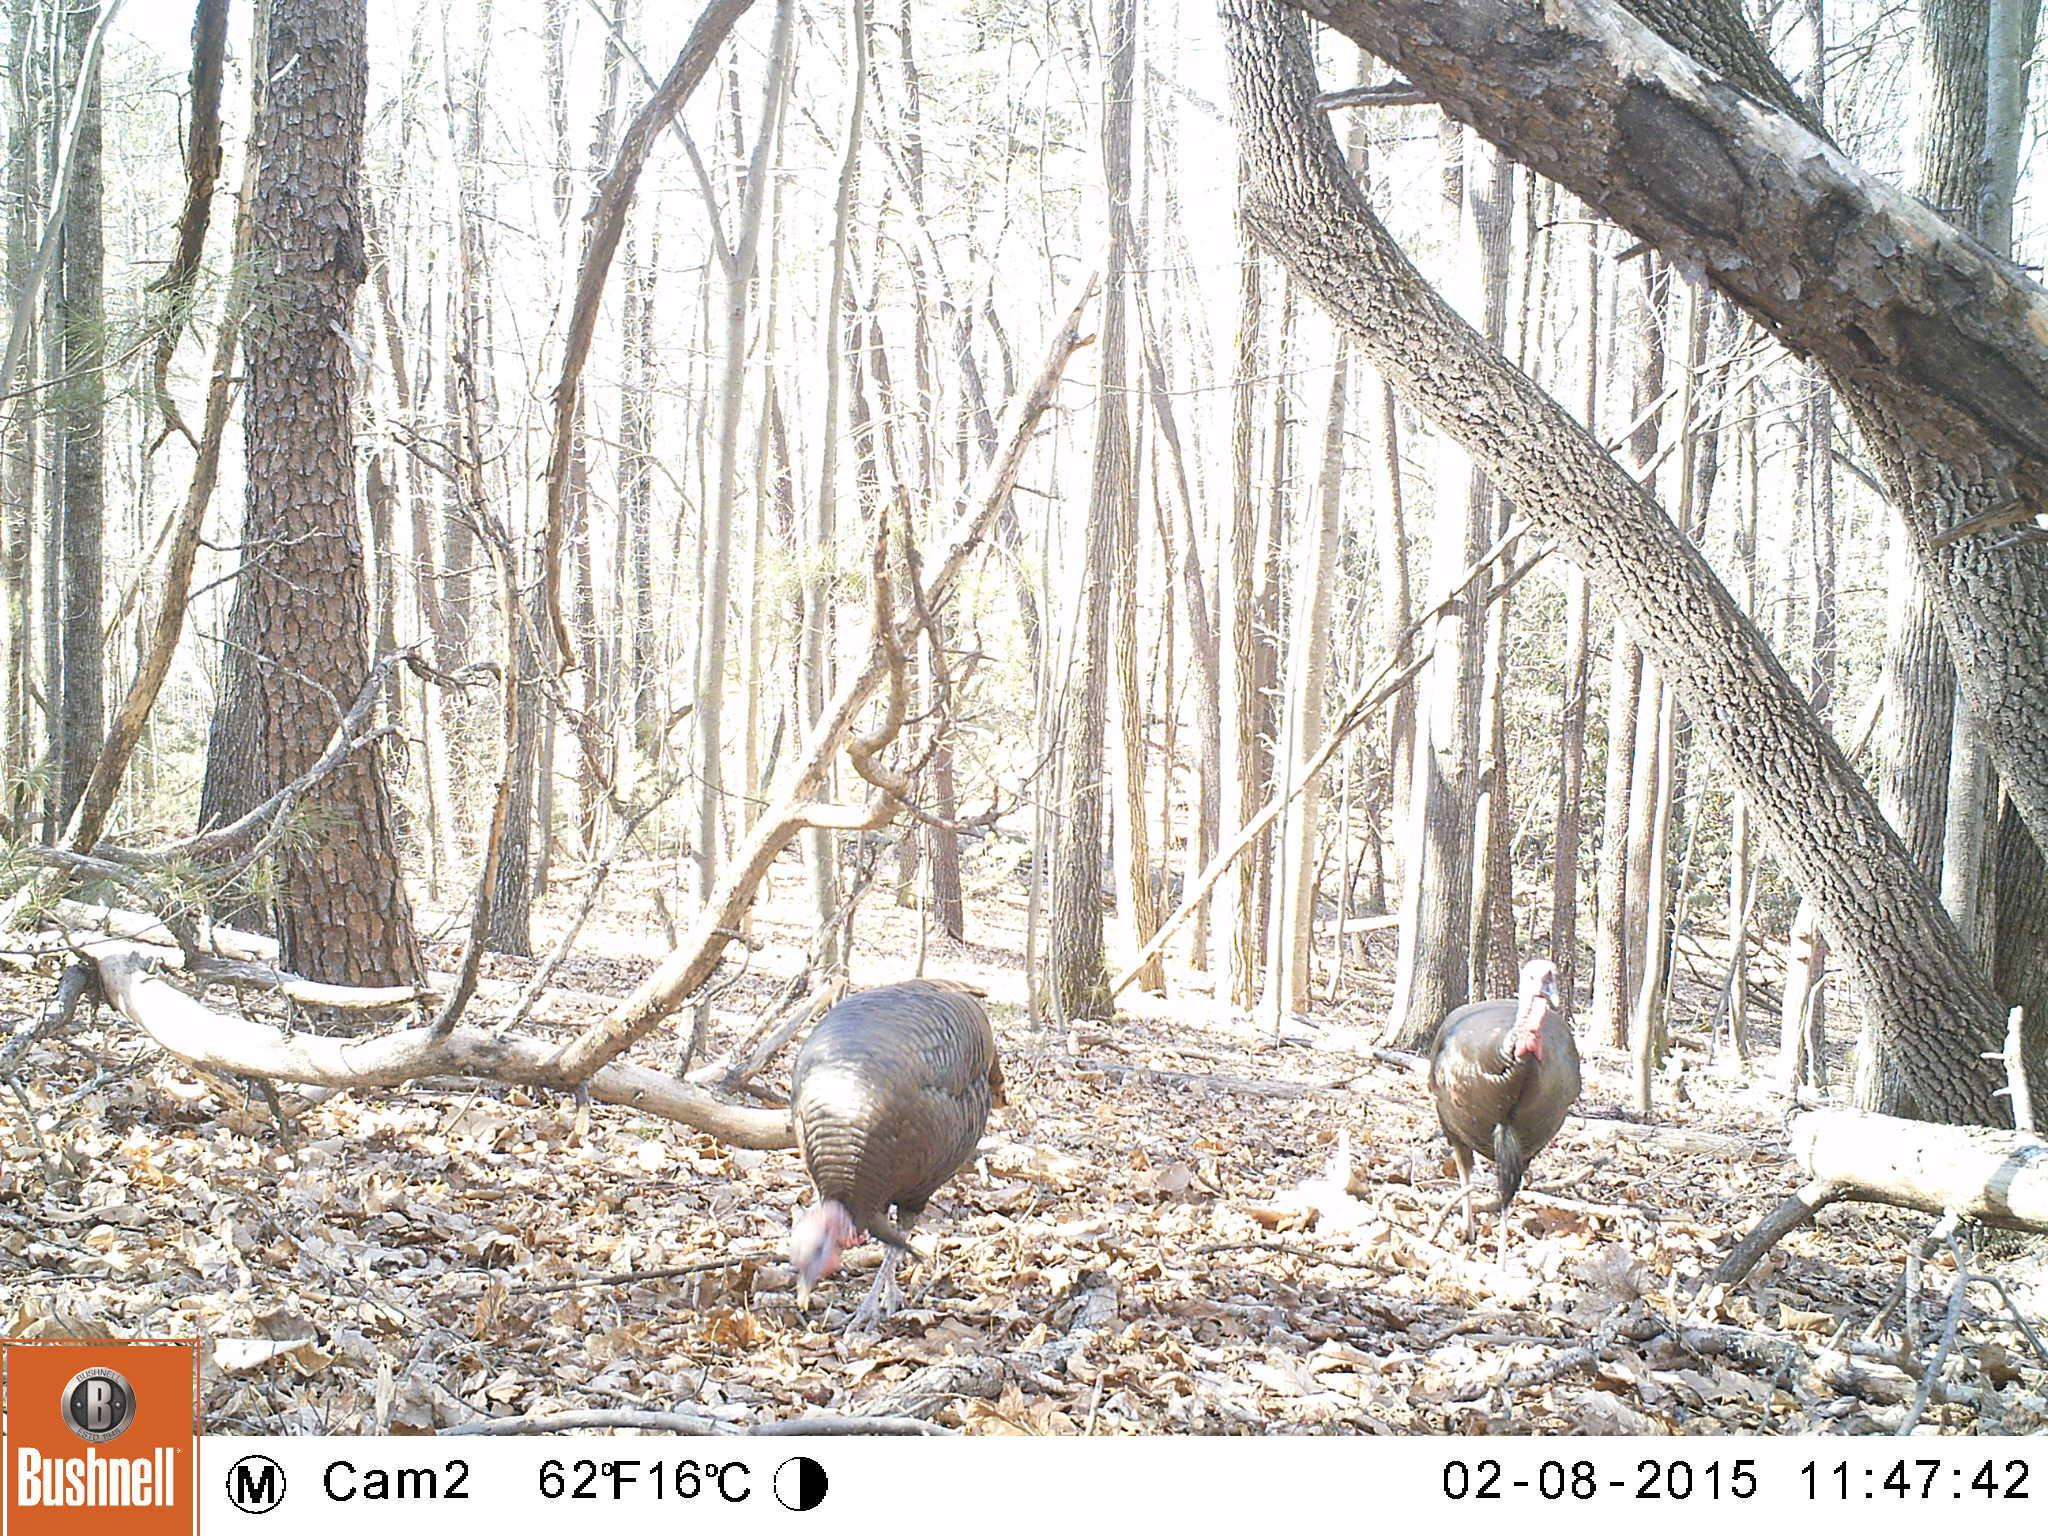Animal: (793, 978, 1005, 1347), (1429, 955, 1588, 1276)
